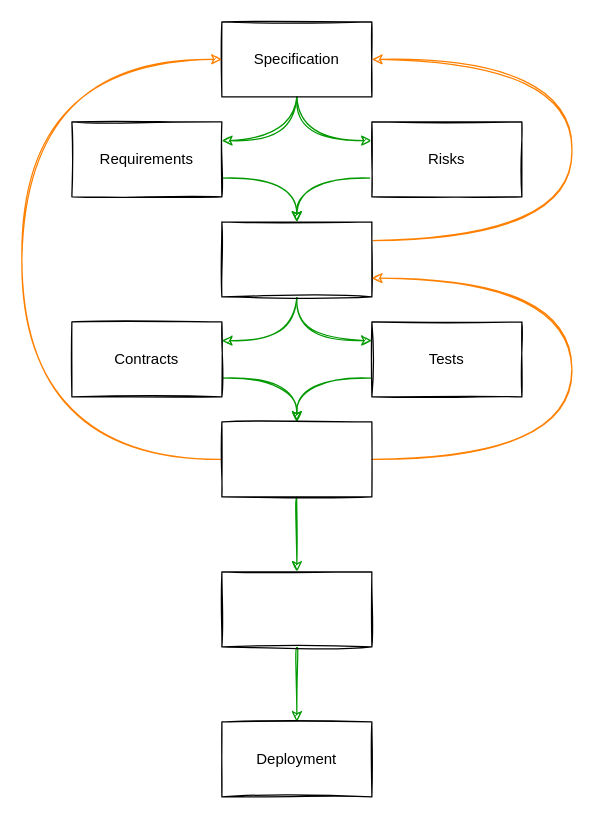
Image size: 595x819. Some labels were removed from this diagram. The shapes that lost their labels are listed below. From the top down, each one's centre as x and y in pixels, then its label:
At [296,259]: "Architecture".
At [296,459]: "Implementation".
At [296,609]: "Documentation".
